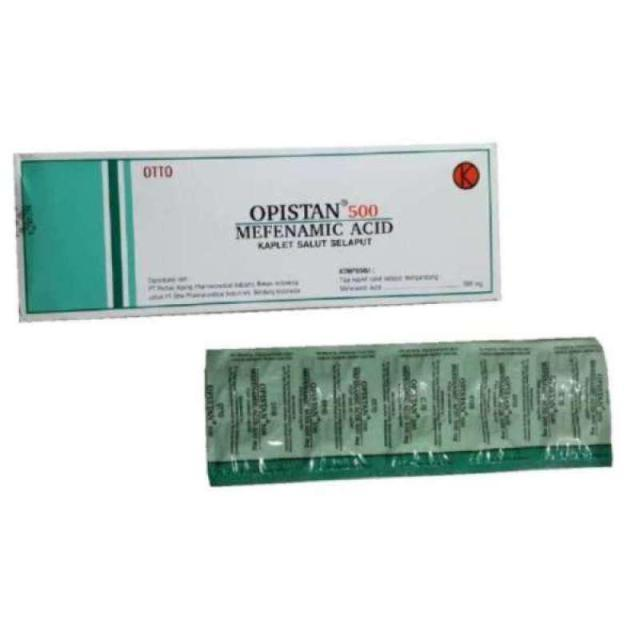drug-name: (248, 198, 378, 222)
